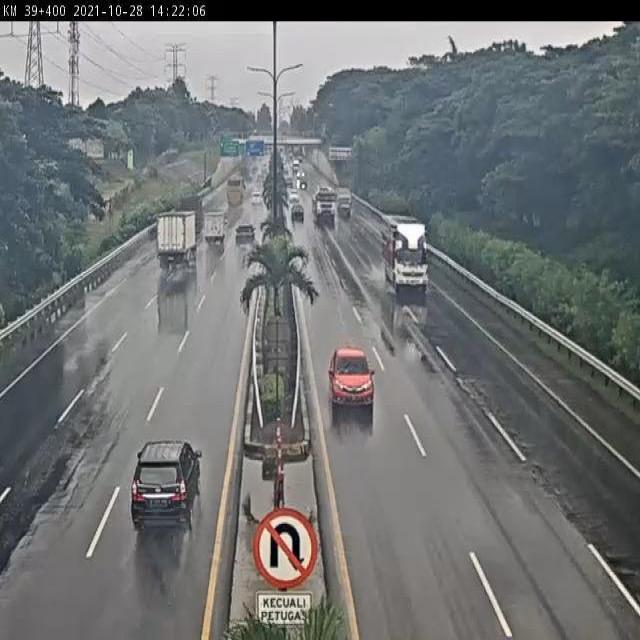big truck: (311, 188, 337, 223)
car: (130, 444, 206, 533), (326, 344, 378, 413), (235, 224, 256, 248), (292, 204, 305, 224)
truck-l-: (380, 213, 432, 290), (154, 208, 200, 272)
truck-s-: (202, 209, 226, 247)
